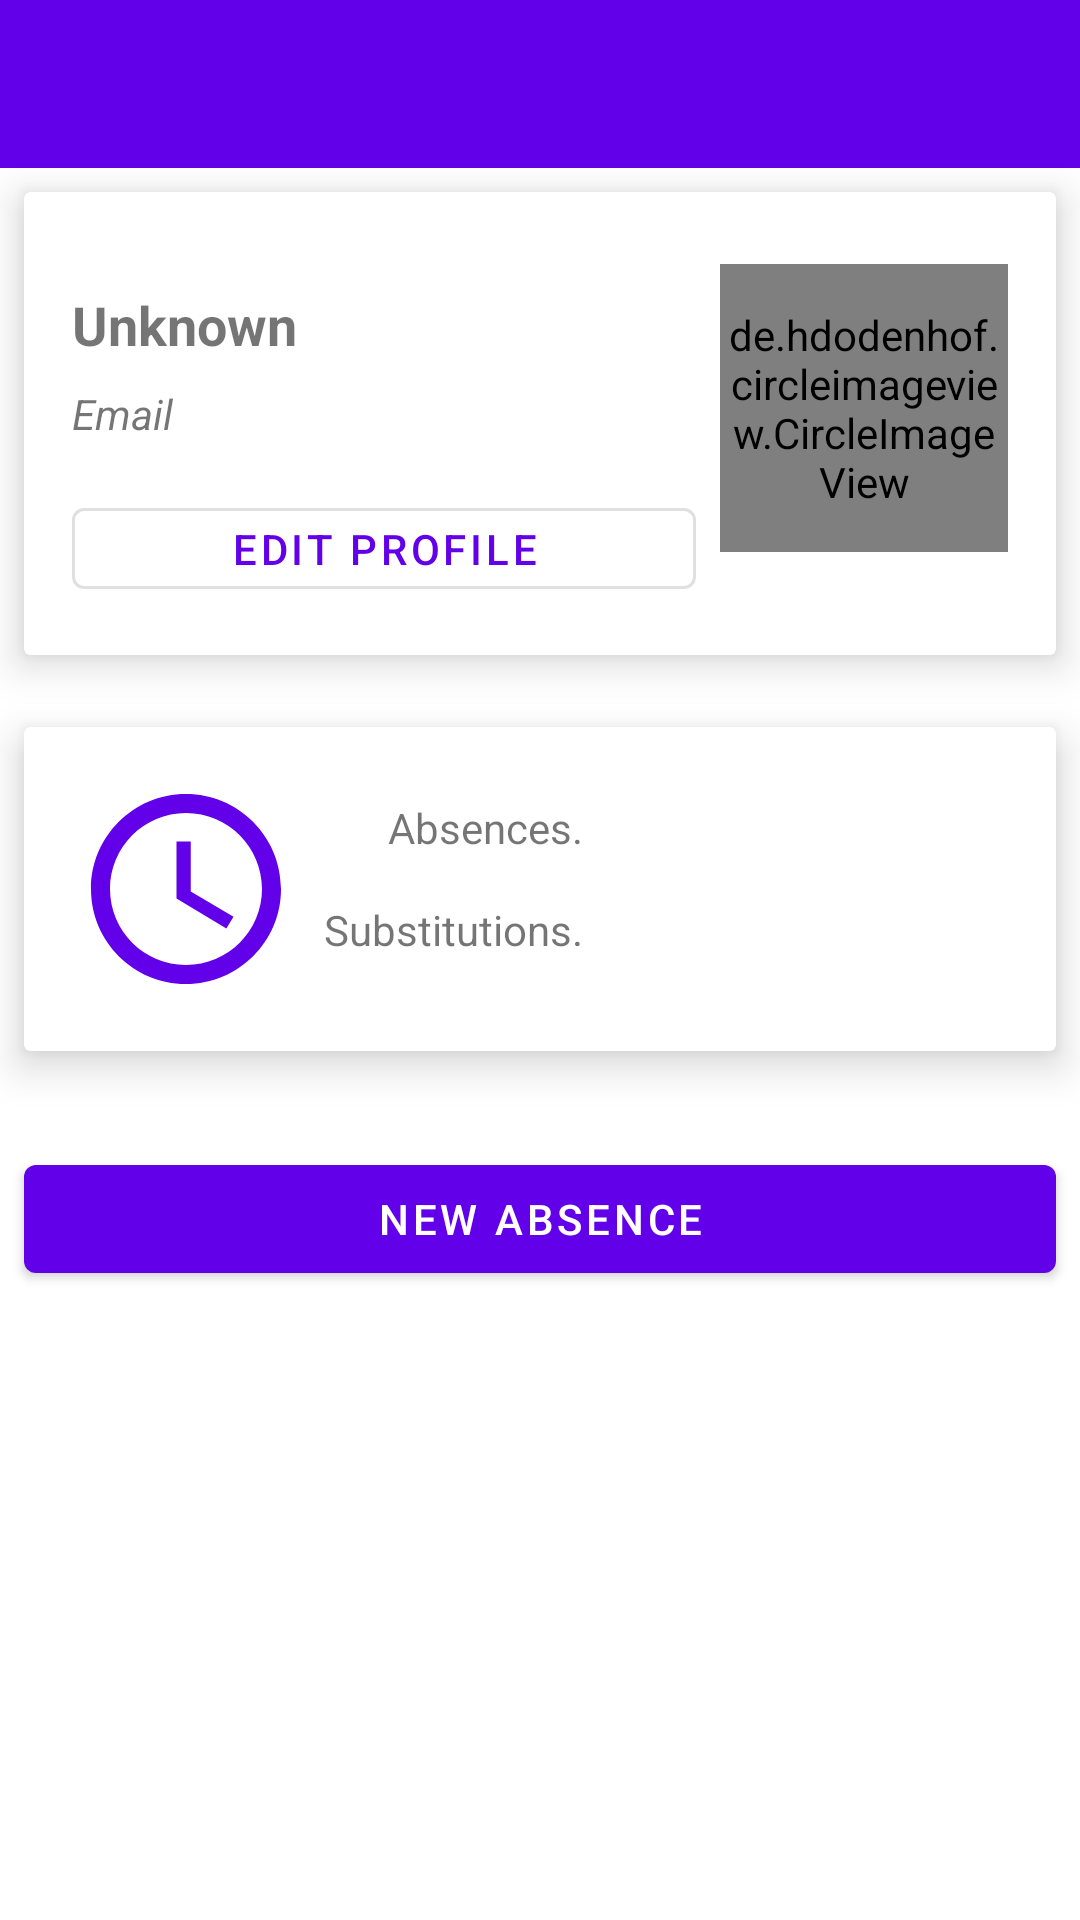

Screen size 1080x1920. Icon name, then its box in pixels as (x1, y1, x2, y2):
schedule: (90, 794, 281, 984)
